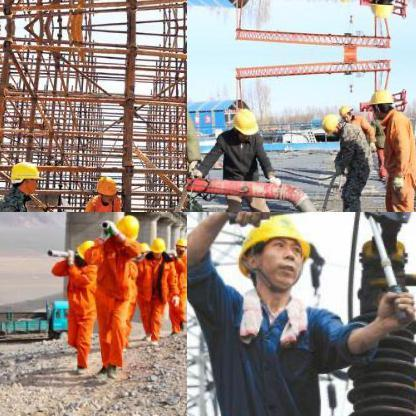Helmet: (234, 212, 320, 292), (9, 158, 40, 192), (112, 212, 143, 244), (364, 85, 394, 115), (230, 105, 257, 138), (90, 172, 116, 202), (72, 237, 98, 265), (364, 0, 394, 20), (319, 110, 343, 134), (146, 232, 164, 256), (171, 232, 186, 256), (338, 101, 352, 121), (338, 0, 354, 4)
